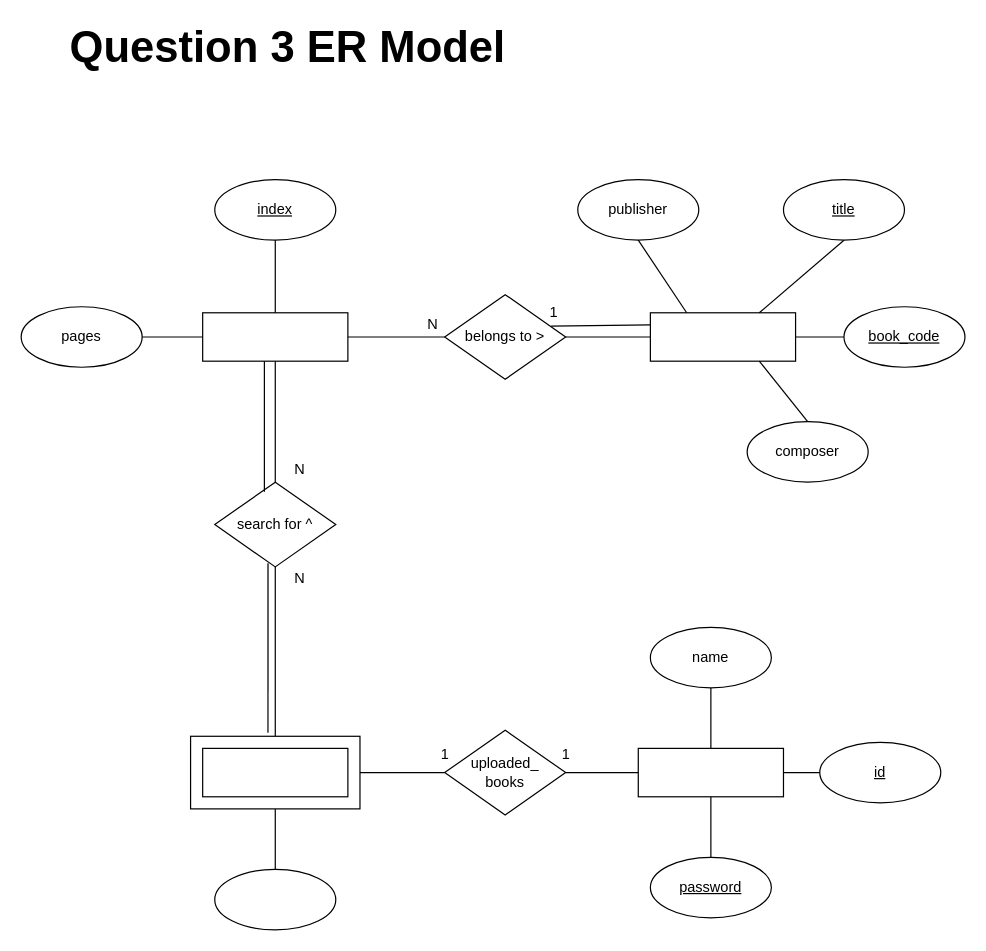
Image size: 986x951. Some labels were removed from this diagram. The centre of each missing label's shape, as x and y in pixels:
"books" belongs at (722,336).
"fake_books" belongs at (275,899).
"library" belongs at (274,772).
"songs" belongs at (274,336).
"users" belongs at (710,772).
